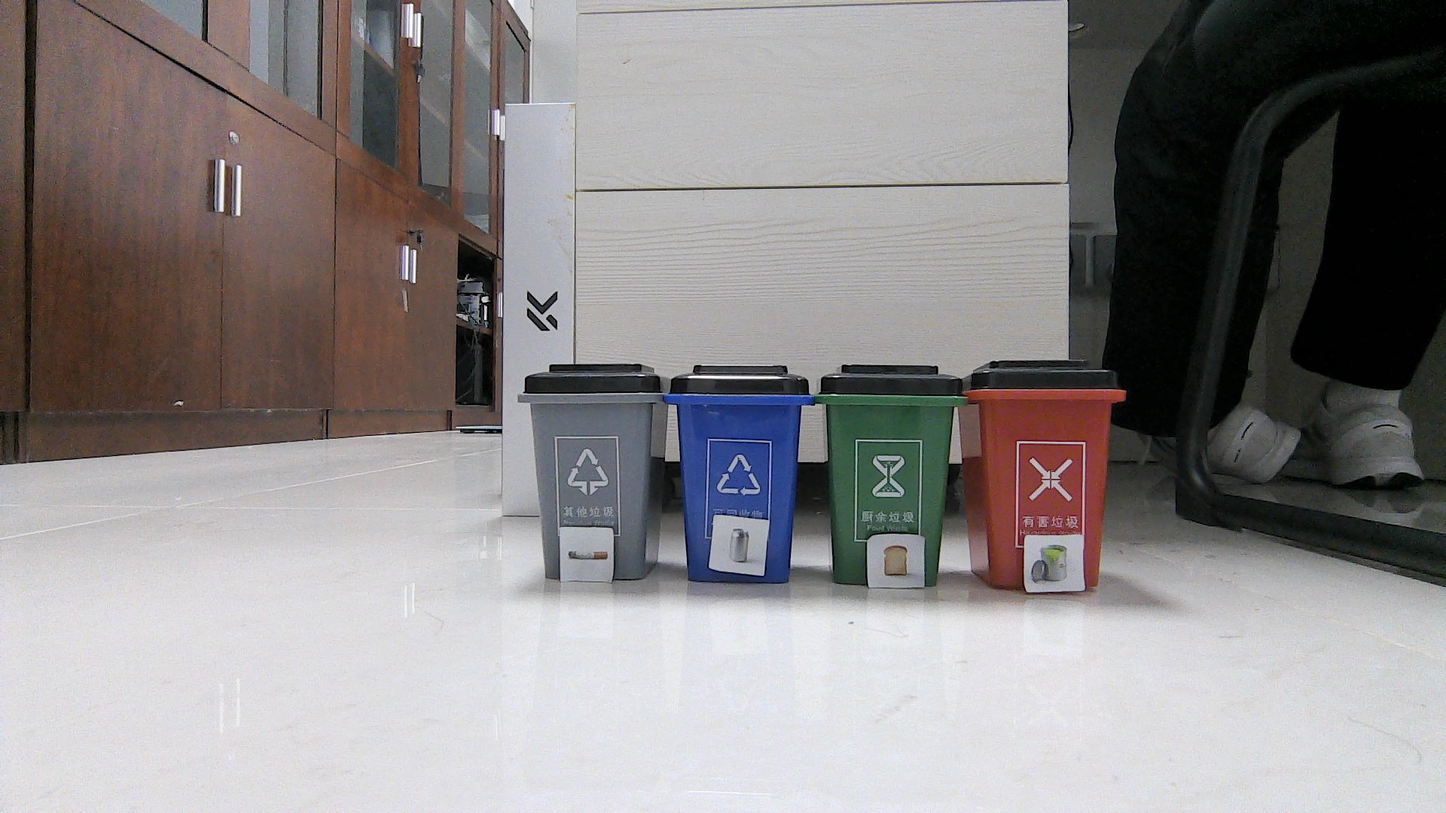food_trash: (1027, 539, 1076, 591), (871, 539, 922, 582)
other_trash: (563, 529, 614, 578)
recyclable_trash: (718, 516, 761, 569)
